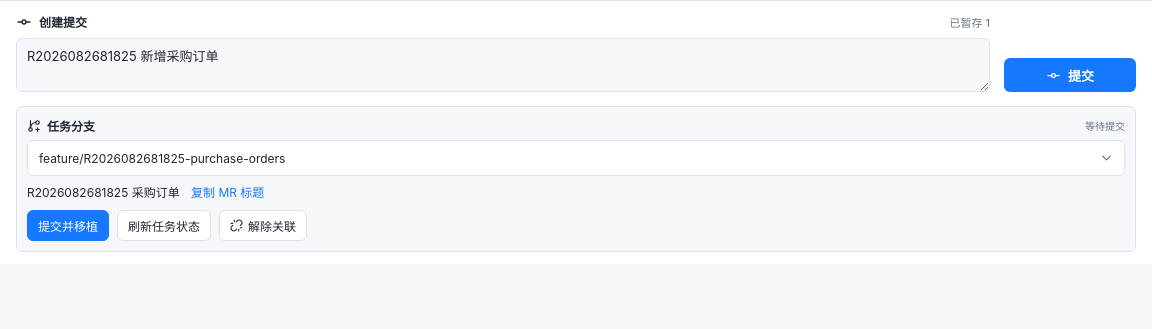
Test: task branches › unlinks only the selected task and keeps the commit draft
Click the dropdown named "提交目标任务分支" at (162, 158), box x1=27 y1=140 x2=1125 y2=176
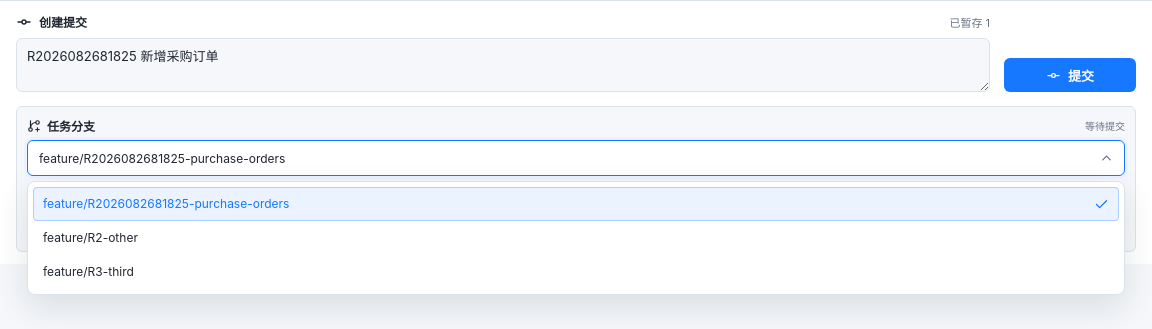
Click the option "feature/R2-other" at (90, 238), box x1=43 y1=230 x2=138 y2=245
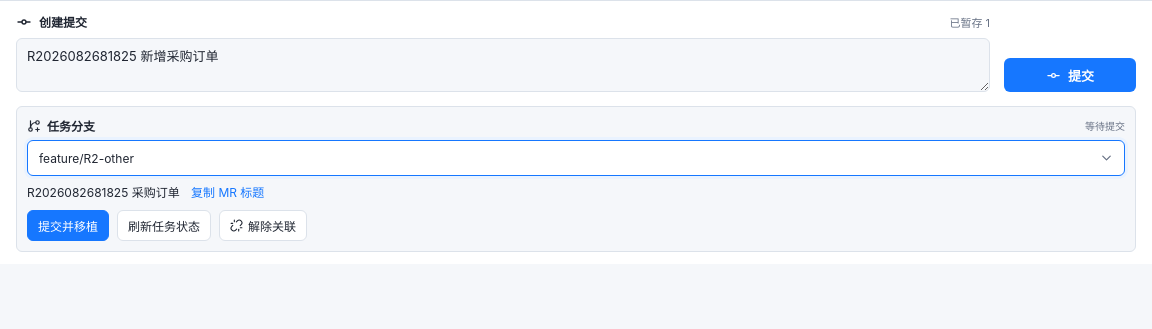
Click the button with aria-label "解除关联" at (263, 226), box x1=219 y1=210 x2=307 y2=241
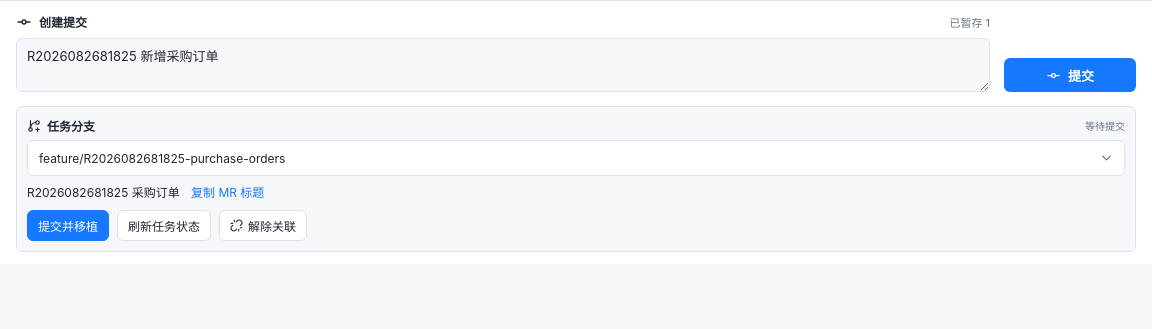
Result: the text "feature/R2-other" is gone
Result: the text "feature/R2026082681825-purchase-orders" is shown at x1=39 y1=151 x2=285 y2=166
Result: the dropdown named "提交目标任务分支" reads "feature/R2026082681825-purchase-orders" at x1=27 y1=140 x2=1125 y2=176
